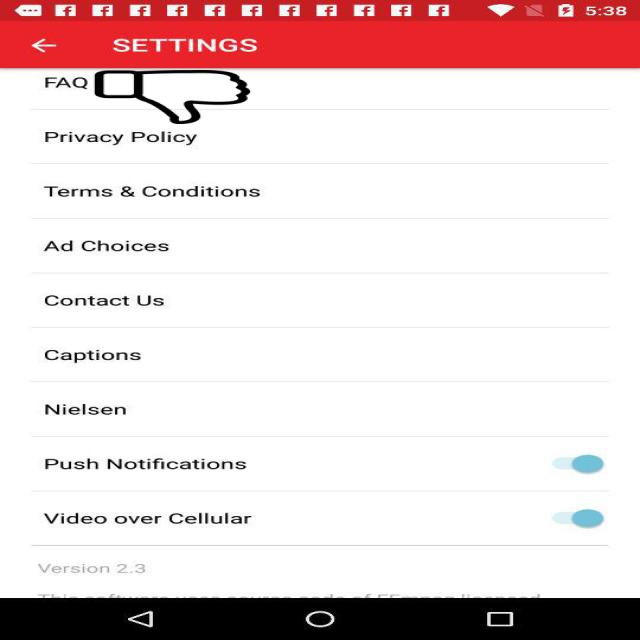obstruction: (92, 70, 252, 124)
